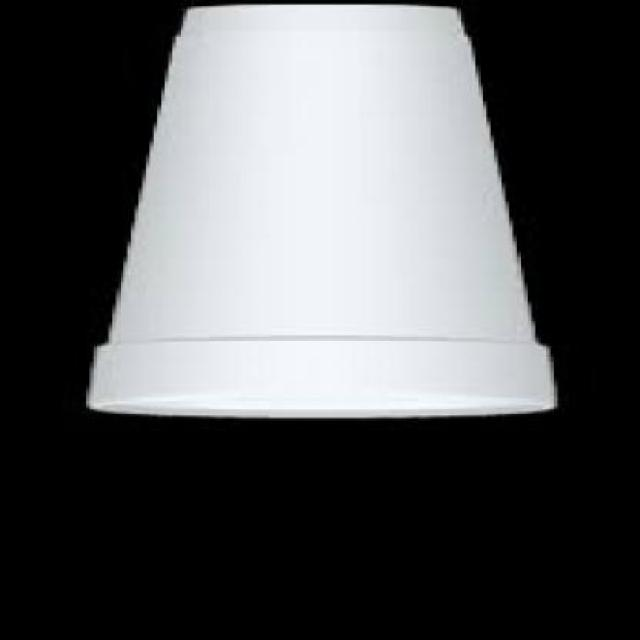PAPER: (75, 7, 550, 422)
